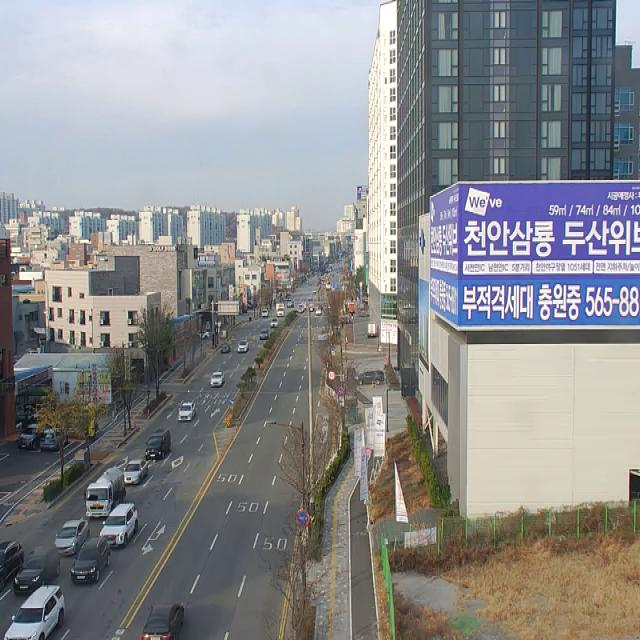Car: (4, 586, 66, 640), (71, 537, 110, 582), (141, 600, 184, 640), (100, 503, 138, 547), (14, 555, 57, 592), (54, 519, 90, 556), (0, 542, 25, 594), (146, 428, 170, 458), (40, 427, 66, 451), (17, 424, 40, 450), (125, 460, 148, 485), (355, 368, 385, 384), (178, 402, 196, 421), (210, 372, 225, 387), (238, 340, 249, 352), (221, 342, 231, 353), (260, 330, 269, 340), (271, 318, 278, 328), (262, 309, 269, 317)
Truck: (85, 469, 126, 519), (368, 319, 379, 336), (276, 303, 285, 316)
